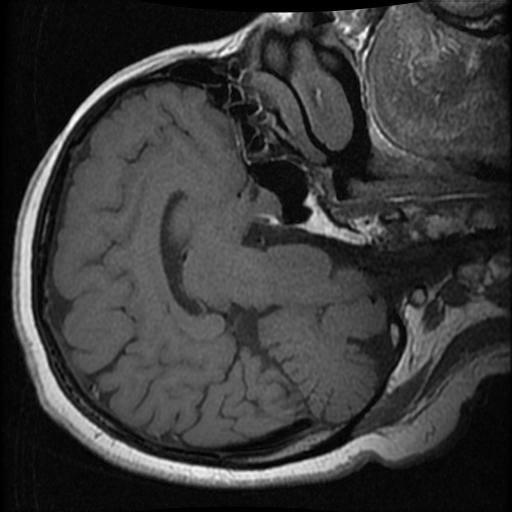pituitary tumour: (248, 188, 280, 222)
